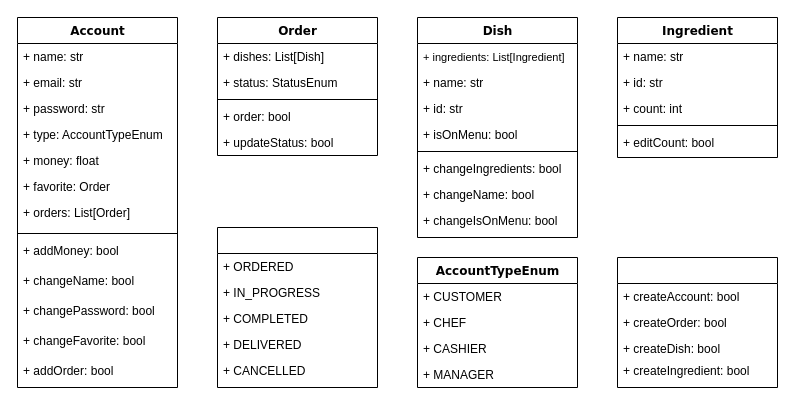
Some shapes in this 795 by 408 pixel diagram are drawn without their labels. Here are the shapes that lost their labels. From the top down, the box of each, then its label:
(216, 226, 378, 388): StatusEnum
(616, 256, 778, 388): DataService
